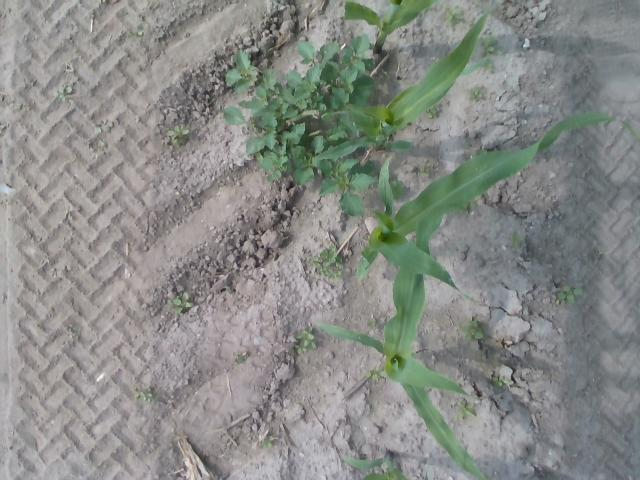Maize: (355, 112, 638, 302), (315, 201, 488, 480), (316, 5, 494, 160), (344, 0, 442, 53), (340, 450, 409, 480), (424, 472, 428, 480)
Weeds: (222, 32, 376, 218), (310, 244, 346, 285), (482, 36, 505, 74), (458, 320, 486, 344), (294, 326, 316, 355), (453, 398, 477, 424), (555, 286, 583, 307), (166, 292, 195, 312), (165, 126, 191, 146), (133, 386, 157, 406), (444, 5, 464, 26), (363, 363, 387, 380), (506, 228, 524, 250), (91, 117, 114, 134), (54, 85, 74, 104), (391, 180, 408, 201), (490, 376, 513, 390), (466, 86, 484, 102), (128, 24, 144, 40), (234, 350, 250, 365), (420, 162, 435, 178), (258, 436, 274, 450), (66, 325, 82, 338), (426, 106, 440, 120), (366, 316, 379, 330), (64, 207, 75, 222), (96, 139, 108, 150), (462, 204, 473, 216), (0, 122, 8, 134), (596, 247, 605, 257), (13, 102, 22, 110), (225, 285, 232, 294), (100, 0, 106, 4)
